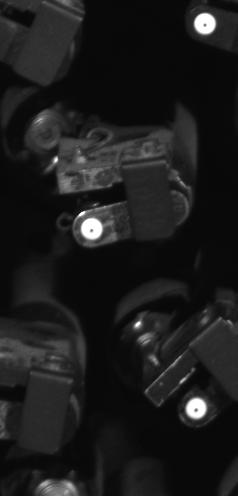fiber: (186, 7, 223, 41), (180, 393, 215, 427), (76, 215, 111, 243)
